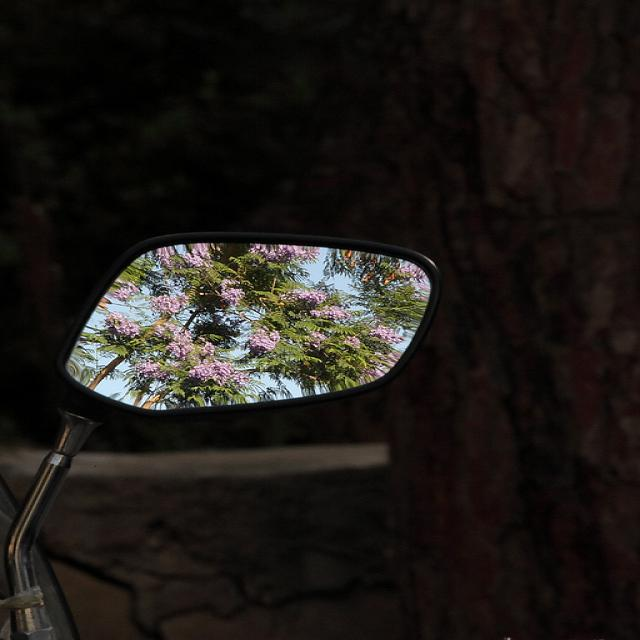motor: (0, 232, 448, 640)
